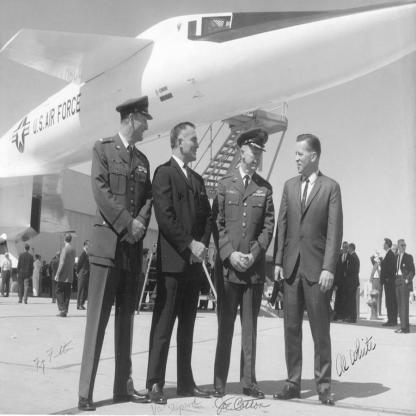XB70: (2, 2, 416, 295)
